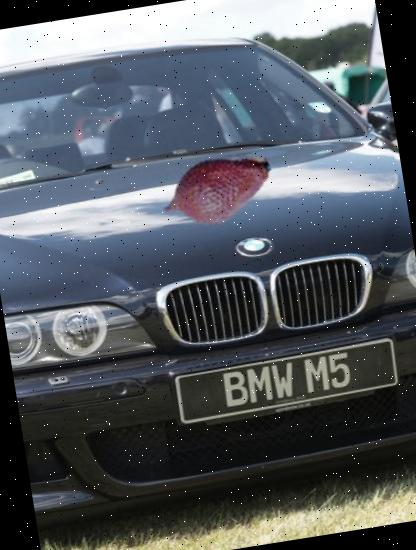Salak: (150, 123, 283, 256)
